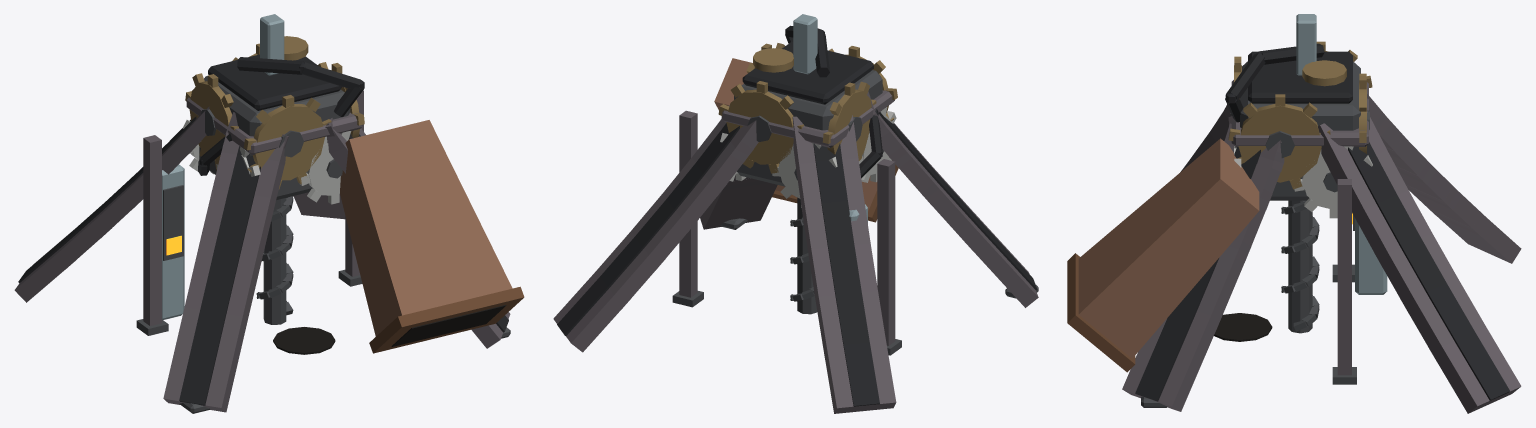
Rendered from burner-mining-drill-south.glb.
The picture shows the model from 3 angles, left to right: view 1: azimuth 30°, elevation 25°; view 2: azimuth 150°, elevation 25°; view 3: azimuth 270°, elevation 25°; orthographic projection. The views are drawn at different scales.
Visible parts, largest first — view 1: body, anim_gear_bmd_ns_00, anim_spin_drill, anim_gear_bmd_ew_30, anim_gear_bmd_r_ns_01, anim_slide_bmd_rod; view 2: body, anim_gear_bmd_ns_20, anim_gear_bmd_ew_30, anim_spin_drill, anim_slide_bmd_rod, anim_gear_bmd_r_ns_21, anim_gear_bmd_r_ew_31, anim_gear_bmd_ns_00; view 3: body, anim_gear_bmd_ew_10, anim_spin_drill, anim_gear_bmd_r_ew_11, anim_slide_bmd_rod, anim_gear_bmd_ns_20.
Part boxes in pixels (<box>): body: <box>14,36,524,413</box>; anim_gear_bmd_ns_00: <box>243,95,331,189</box>; anim_spin_drill: <box>256,196,293,324</box>; anim_gear_bmd_ew_30: <box>185,73,238,170</box>; anim_gear_bmd_r_ns_01: <box>299,131,351,204</box>; anim_slide_bmd_rod: <box>260,14,284,75</box>; body: <box>553,25,1038,413</box>; anim_gear_bmd_ns_20: <box>718,81,803,173</box>; anim_gear_bmd_ew_30: <box>822,81,876,160</box>; anim_spin_drill: <box>790,197,817,314</box>; anim_slide_bmd_rod: <box>793,14,817,74</box>; anim_gear_bmd_r_ns_21: <box>772,143,837,207</box>; anim_gear_bmd_r_ew_31: <box>859,107,896,182</box>; anim_gear_bmd_ns_00: <box>829,46,897,121</box>; body: <box>1067,43,1521,413</box>; anim_gear_bmd_ew_10: <box>1228,94,1330,189</box>; anim_spin_drill: <box>1281,200,1319,333</box>; anim_gear_bmd_r_ew_11: <box>1294,146,1372,218</box>; anim_slide_bmd_rod: <box>1296,14,1316,75</box>; anim_gear_bmd_ns_20: <box>1359,73,1369,153</box>.
Size of the model in its own units: 2.08 by 1.7 by 2.25.
